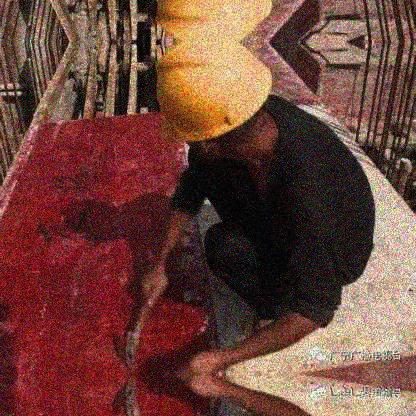helmet: (153, 42, 273, 176)
